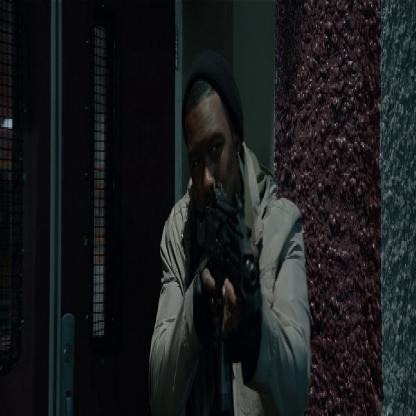Gun: (190, 175, 263, 414)
